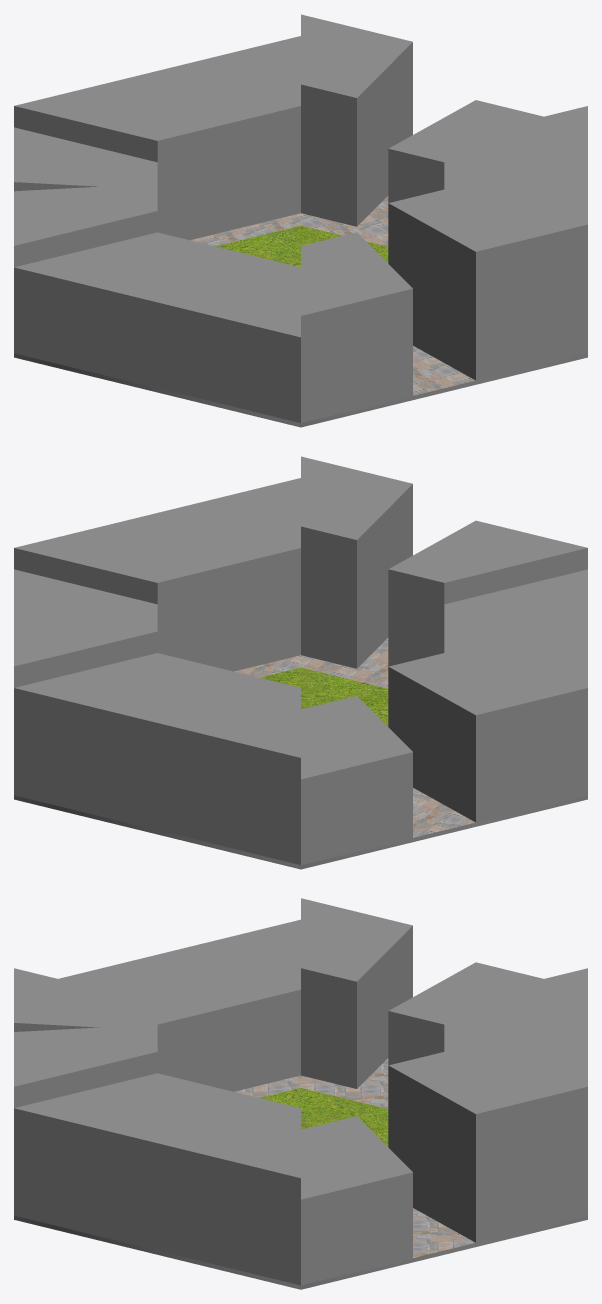
3 renders of one model, top to bottom at view 1: azimuth 30°, elevation 25°; view 2: azimuth 150°, elevation 25°; view 3: azimuth 270°, elevation 25°, orthographic.
Visible parts, largest first — view 1: Cylinder002; view 2: Cylinder002; view 3: Cylinder002.
Boxes of the visible parts, x1,y1,x2,y2 form: Cylinder002: (14, 14, 587, 427); Cylinder002: (14, 456, 587, 869); Cylinder002: (14, 898, 587, 1289).
Size of the model in its own units: 140 by 31 by 121.
5 materials, 2 textured.
